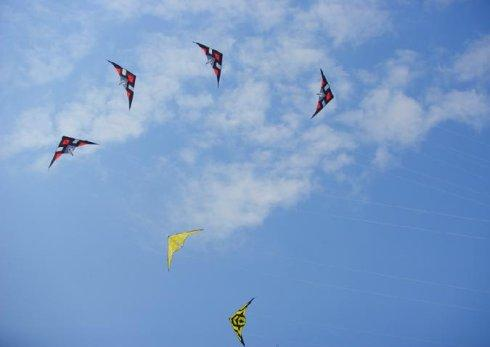kite: (191, 40, 227, 90), (47, 135, 97, 170), (106, 59, 139, 111), (226, 296, 259, 346), (309, 69, 337, 121), (164, 227, 200, 267)
